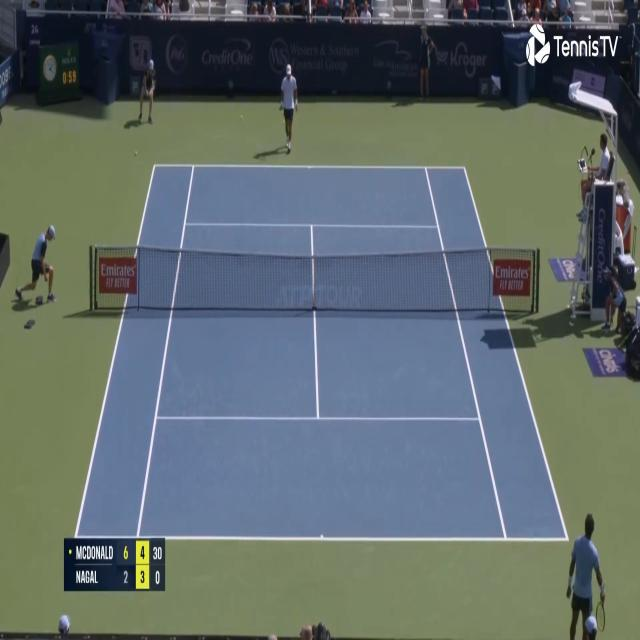tennis-player: (562, 506, 609, 639), (276, 60, 300, 154)
